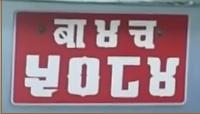0: (65, 52, 102, 99)
4: (145, 54, 181, 97), (92, 17, 123, 50)
5: (24, 51, 62, 98)
8: (105, 53, 142, 99)
ba: (52, 17, 89, 49)
cha: (124, 17, 160, 51)
